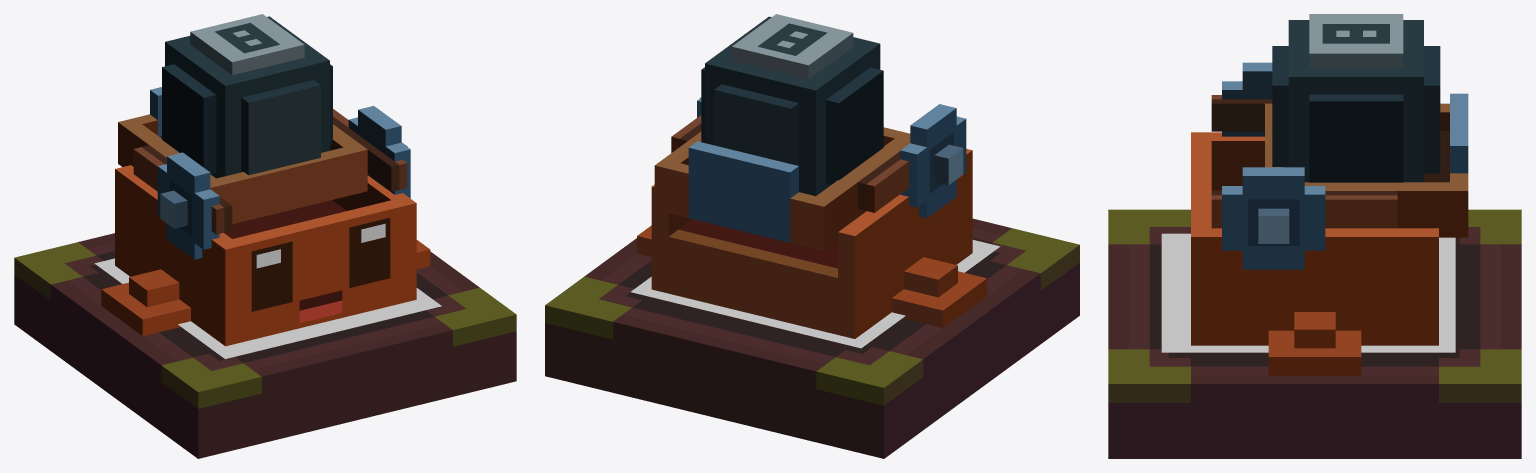
The model's file is Tower_Pult.fbx.
3 renders of one model, left to right at view 1: azimuth 30°, elevation 25°; view 2: azimuth 150°, elevation 25°; view 3: azimuth 270°, elevation 25°, orthographic. The views are drawn at different scales.
Visible parts, largest first — view 1: Base, Body, Boulder, Bucket, Hinge, Shadow, Arms; view 2: Base, Body, Boulder, Bucket, Hinge, Shadow, Arms; view 3: Base, Body, Boulder, Hinge, Bucket, Shadow, Arms.
Part boxes in pixels (x1,y1,x2,y2): Base: (14, 233, 516, 458); Body: (101, 165, 430, 346); Boulder: (162, 14, 332, 178); Bucket: (118, 87, 367, 224); Hinge: (157, 106, 410, 259); Shadow: (94, 258, 441, 358); Arms: (133, 109, 407, 234); Base: (545, 218, 1079, 458); Body: (637, 149, 986, 338); Boulder: (701, 14, 883, 196); Bucket: (654, 127, 910, 250); Hinge: (697, 97, 966, 218); Shadow: (631, 240, 1000, 348); Arms: (671, 115, 908, 212); Base: (1108, 209, 1521, 458); Body: (1191, 132, 1438, 375); Boulder: (1272, 14, 1440, 182); Hinge: (1222, 62, 1325, 269); Bucket: (1265, 93, 1468, 237); Shadow: (1161, 233, 1455, 352); Arms: (1211, 95, 1397, 227).
Size of the model in its own units: 100 by 90.31 by 100.
